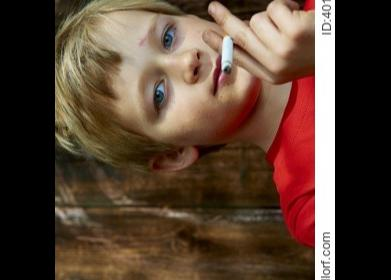Cigarette: (55, 0, 317, 243), (222, 33, 234, 73)
